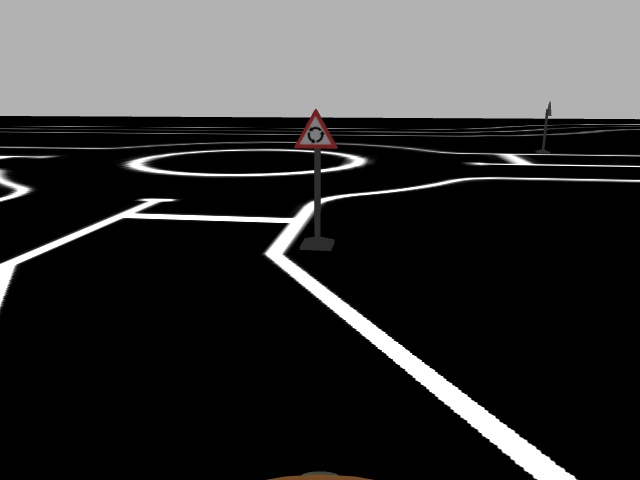roundabout: (292, 109, 339, 149)
